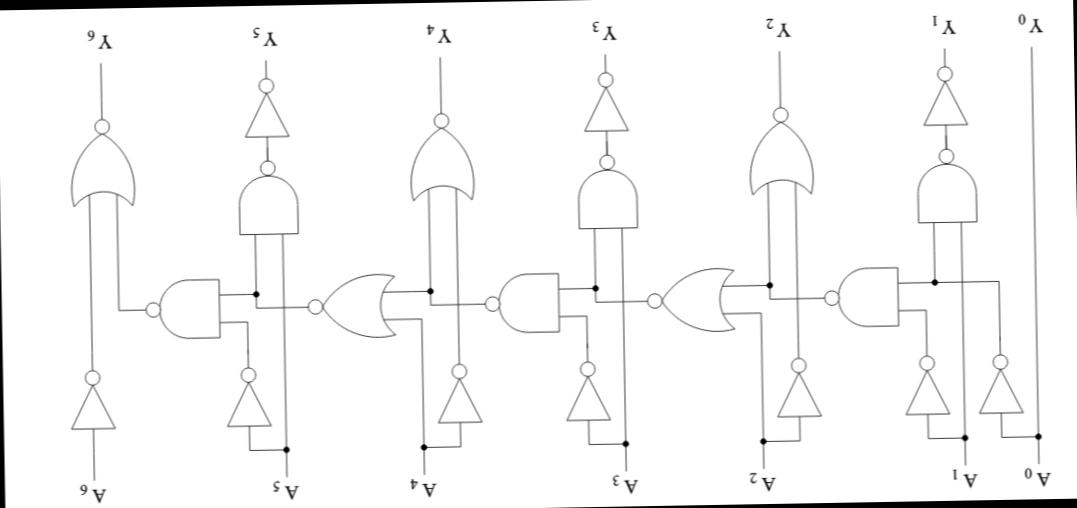nand: (224, 155, 304, 244), (898, 146, 984, 228), (478, 264, 567, 342), (138, 269, 227, 347), (564, 147, 643, 234), (818, 262, 902, 332)
nor: (58, 110, 140, 212), (398, 105, 477, 205), (640, 258, 737, 339), (736, 103, 814, 200), (302, 267, 398, 341)
not: (908, 56, 976, 132), (572, 66, 631, 140), (550, 358, 612, 426), (236, 74, 294, 142), (59, 368, 118, 434), (772, 353, 825, 424), (975, 348, 1024, 422), (220, 363, 272, 431), (434, 358, 484, 428), (904, 352, 948, 420)
